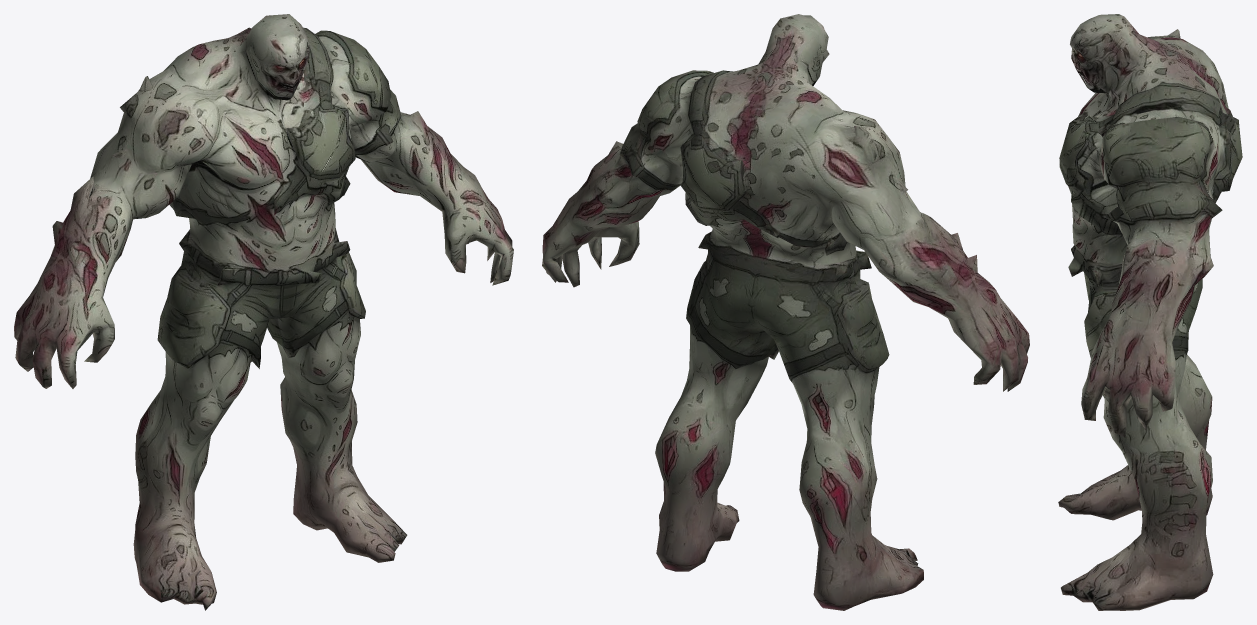
File: texture-web.glb
The picture shows the model from 3 angles, left to right: view 1: azimuth 30°, elevation 25°; view 2: azimuth 150°, elevation 25°; view 3: azimuth 270°, elevation 25°; orthographic projection. The views are drawn at different scales.
Parts seen in each view (by area): view 1: Mesh_0; view 2: Mesh_0; view 3: Mesh_0.
Boxes of the visible parts, x1,y1,x2,y2 form: Mesh_0: (14,14,513,610); Mesh_0: (542,14,1029,610); Mesh_0: (1058,14,1242,610).
Size of the model in its own units: 1.76 by 1.91 by 0.5914.
Materials: 1 (1 with a texture image).
